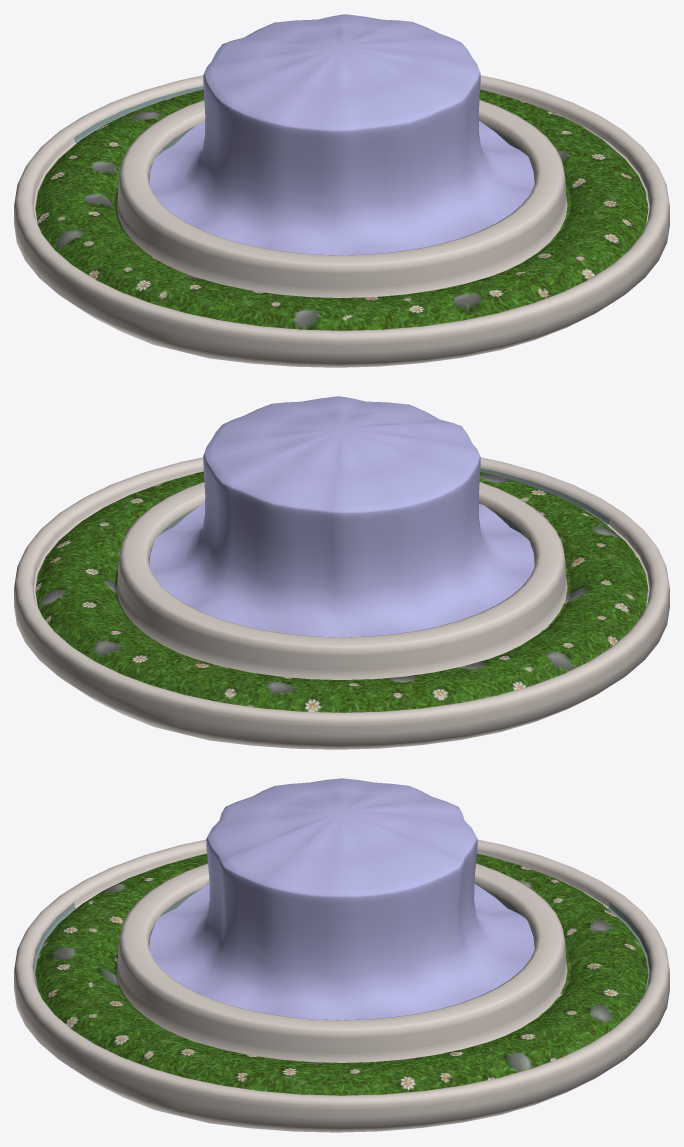
Rendered from Fuente.fbx.
The picture shows the model from 3 angles, top to bottom: view 1: azimuth 30°, elevation 25°; view 2: azimuth 150°, elevation 25°; view 3: azimuth 270°, elevation 25°; orthographic projection.
Visible parts, largest first — view 1: pDisc5, pDisc6; view 2: pDisc5, pDisc6; view 3: pDisc5, pDisc6.
Part boxes in pixels (box(x1,y1,x2,y2)): pDisc5: box(14, 75, 669, 367); pDisc6: box(149, 14, 534, 255); pDisc5: box(14, 457, 669, 749); pDisc6: box(149, 396, 534, 637); pDisc5: box(14, 839, 669, 1132); pDisc6: box(149, 778, 534, 1020).
Bounding box in the file's own units: 23.96 × 7.7 × 23.96.
Materials: 2 (1 with a texture image).
